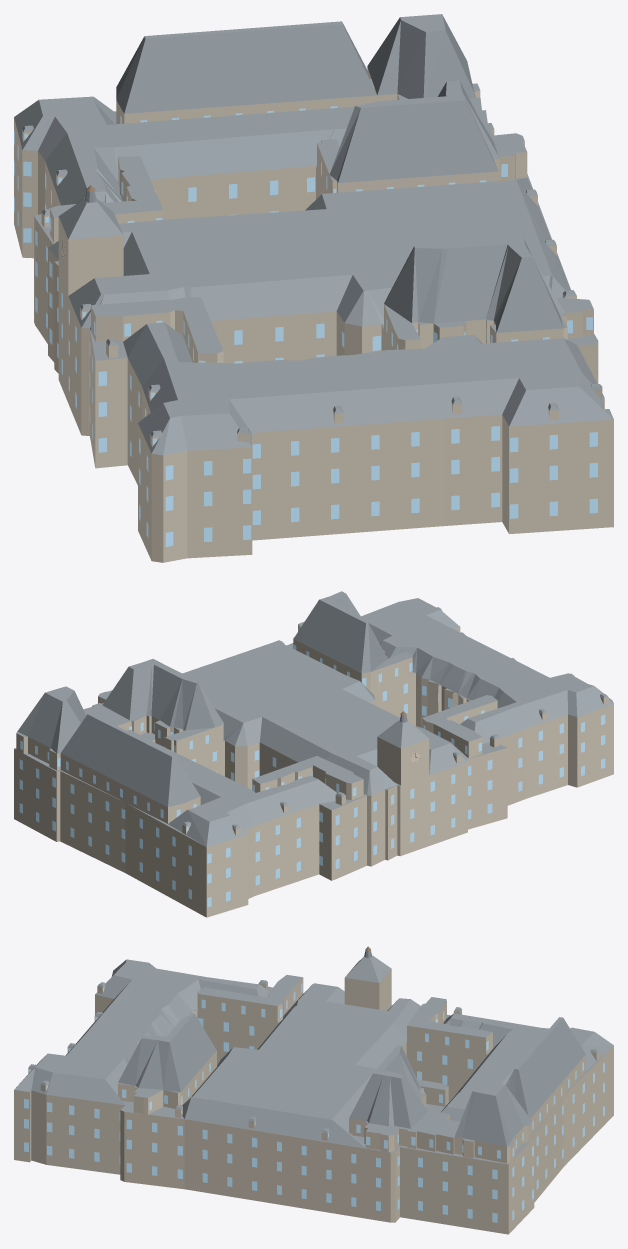
3 renders of one model, top to bottom at view 1: azimuth 30°, elevation 25°; view 2: azimuth 150°, elevation 25°; view 3: azimuth 270°, elevation 25°, orthographic. The views are drawn at different scales.
Visible parts, largest first — view 1: roof, stone, window; view 2: roof, stone, window; view 3: roof, stone, window.
Part boxes in pixels (x1,y1,x2,y2): roof: [14, 14, 613, 455]; stone: [14, 67, 613, 562]; window: [14, 104, 597, 546]; roof: [14, 591, 613, 847]; stone: [14, 610, 613, 917]; window: [19, 630, 605, 907]; roof: [14, 950, 613, 1164]; stone: [14, 969, 613, 1234]; window: [24, 983, 604, 1222].
Bounding box in the file's own units: 126 × 40 × 163.
